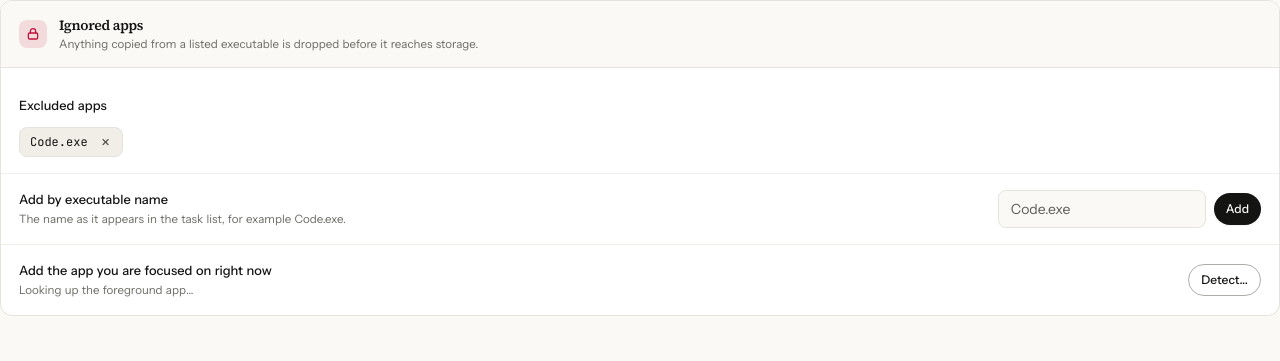
Test case: IgnoredAppsPanel › does not duplicate the entry when the focused app is already listed
Click the button "Detect...".
click(1225, 280)  # box [1188,264,1261,296]
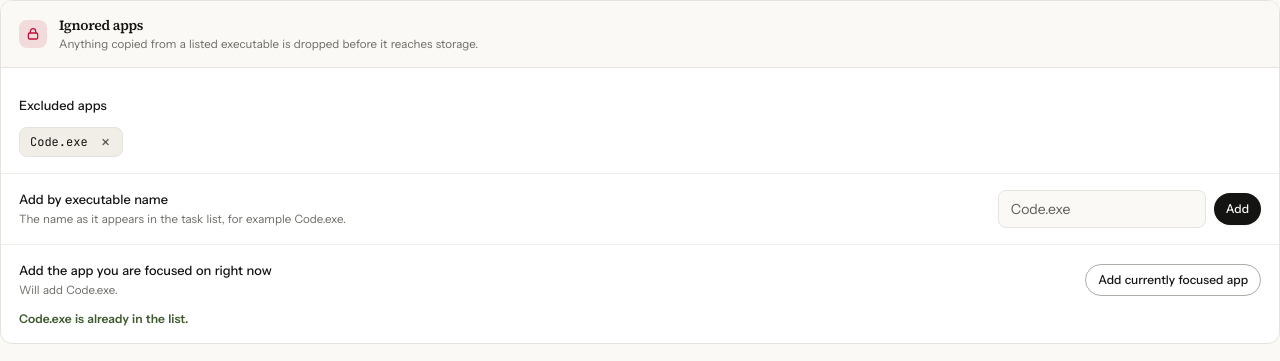
Now the text "Code.exe is already in the list." is shown, box [19,311,188,326]
